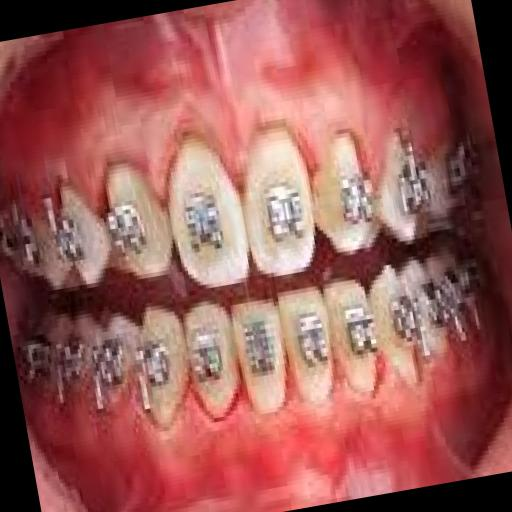correct_brace: (255, 167, 316, 255), (176, 174, 234, 264), (103, 190, 154, 268), (236, 305, 284, 386), (334, 162, 380, 238), (292, 302, 332, 380), (386, 158, 429, 222), (186, 332, 231, 392), (340, 296, 378, 364), (133, 332, 175, 391), (52, 203, 90, 267), (387, 292, 421, 354)
incorrect_brace: (96, 139, 182, 291), (307, 112, 383, 266), (182, 294, 250, 430), (322, 270, 386, 400)
